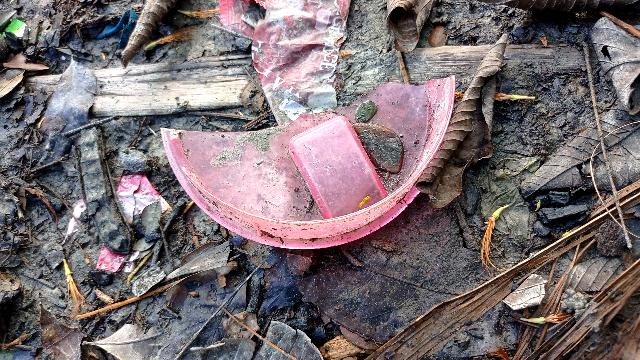hardplastic: (159, 82, 471, 264)
